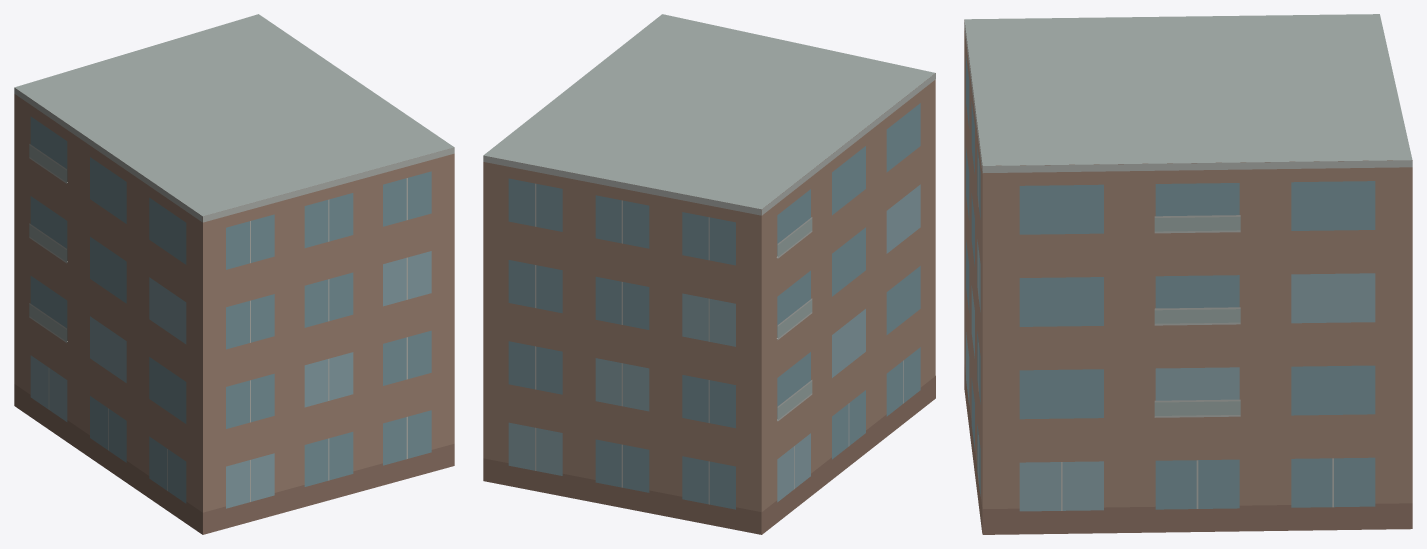
The model's file is survey-upis-32734293.glb.
3 views of the same model, side by side, from view 1: azimuth 30°, elevation 25°; view 2: azimuth 150°, elevation 25°; view 3: azimuth 270°, elevation 25° (orthographic). The views are drawn at different scales.
Parts seen in each view (by area): view 1: survey-upis-32734293.tmp; view 2: survey-upis-32734293.tmp; view 3: survey-upis-32734293.tmp.
Boxes of the visible parts, x1,y1,x2,y2 form: survey-upis-32734293.tmp: (14, 14, 454, 534); survey-upis-32734293.tmp: (483, 14, 935, 534); survey-upis-32734293.tmp: (964, 14, 1412, 534).
Size of the model in its own units: 11.05 by 12.5 by 13.77.
